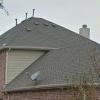Chimney: (74, 20, 92, 39)
